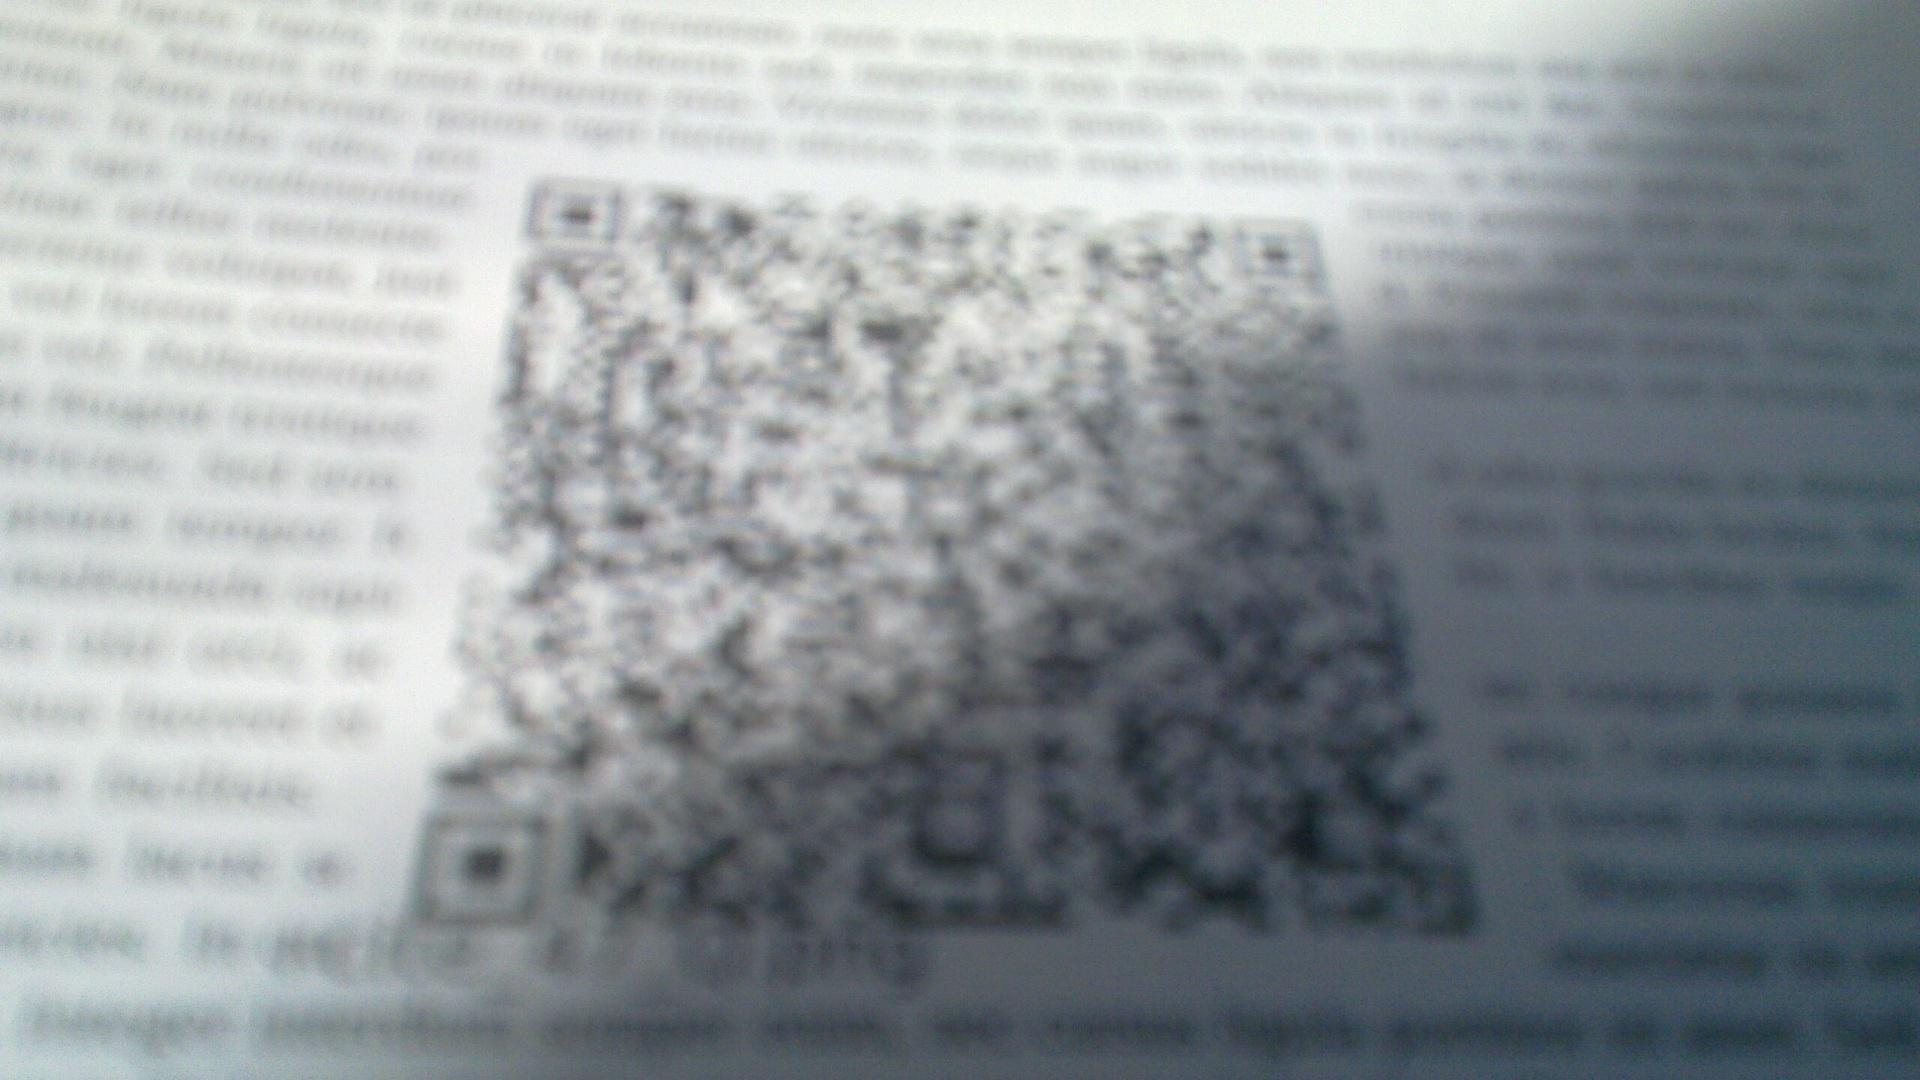Finder pattern: (419, 806, 553, 931), (521, 170, 633, 247), (1225, 212, 1336, 287)
